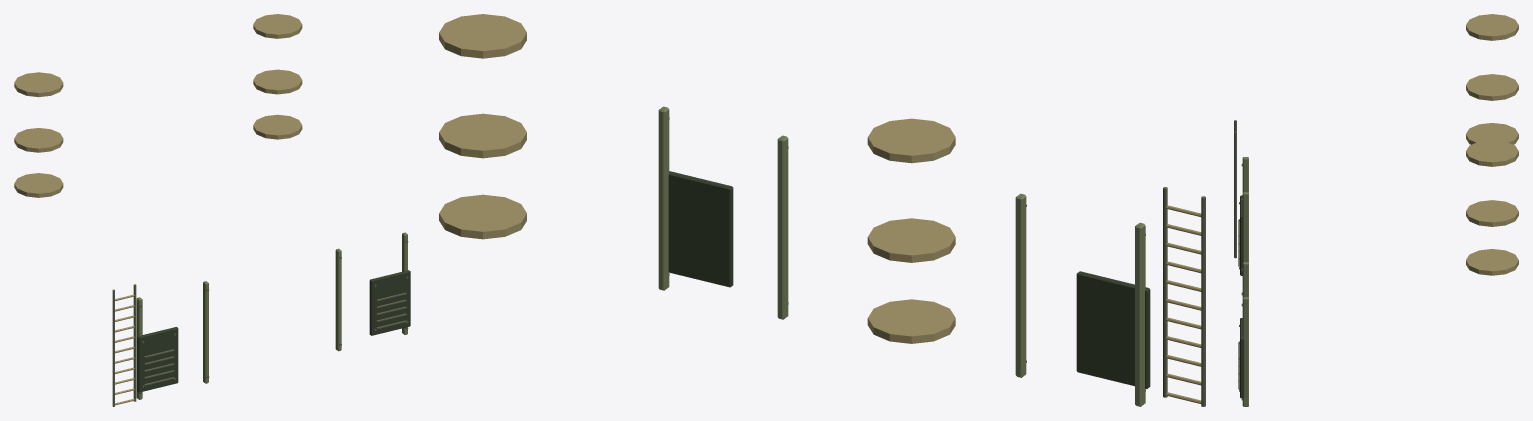
The model's file is detail_factory.obj.
The picture shows the model from 3 angles, left to right: view 1: azimuth 30°, elevation 25°; view 2: azimuth 150°, elevation 25°; view 3: azimuth 270°, elevation 25°; orthographic projection. The views are drawn at different scales.
Parts seen in each view (by area): view 1: detail_factory; view 2: detail_factory; view 3: detail_factory.
Boxes of the visible parts, box(x1,y1,x2,y2) form: detail_factory: box(14, 14, 410, 406); detail_factory: box(439, 14, 1205, 406); detail_factory: box(1234, 14, 1518, 406).
Bounding box in the file's own units: 9.19 × 6.61 × 6.88.
Materials: 1 (1 with a texture image).
